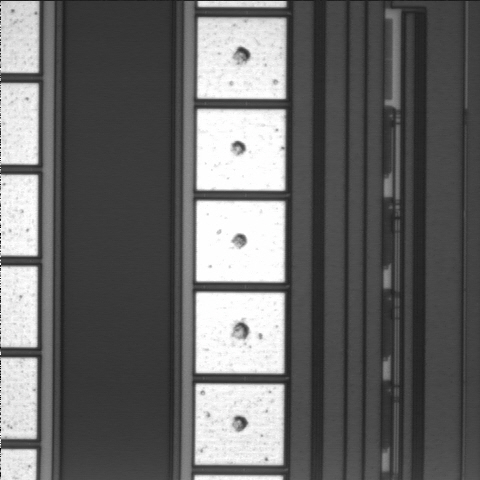pad: (196, 109, 285, 191), (196, 292, 284, 374), (197, 18, 286, 99), (196, 201, 285, 282), (195, 384, 284, 465)
